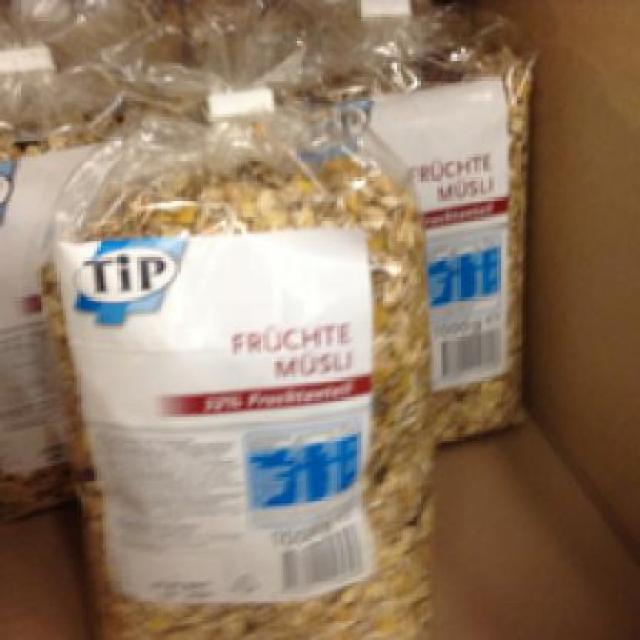Cereal: (48, 97, 426, 632)
